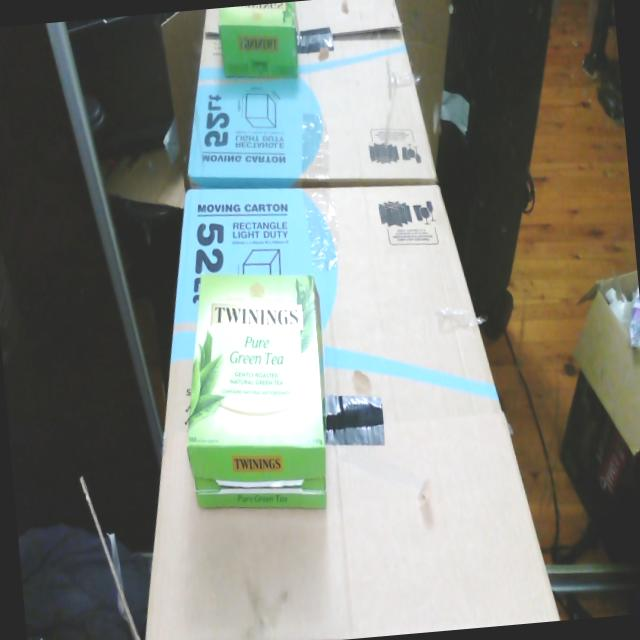twinings_greentea_box: (187, 273, 326, 507), (196, 319, 198, 320)
